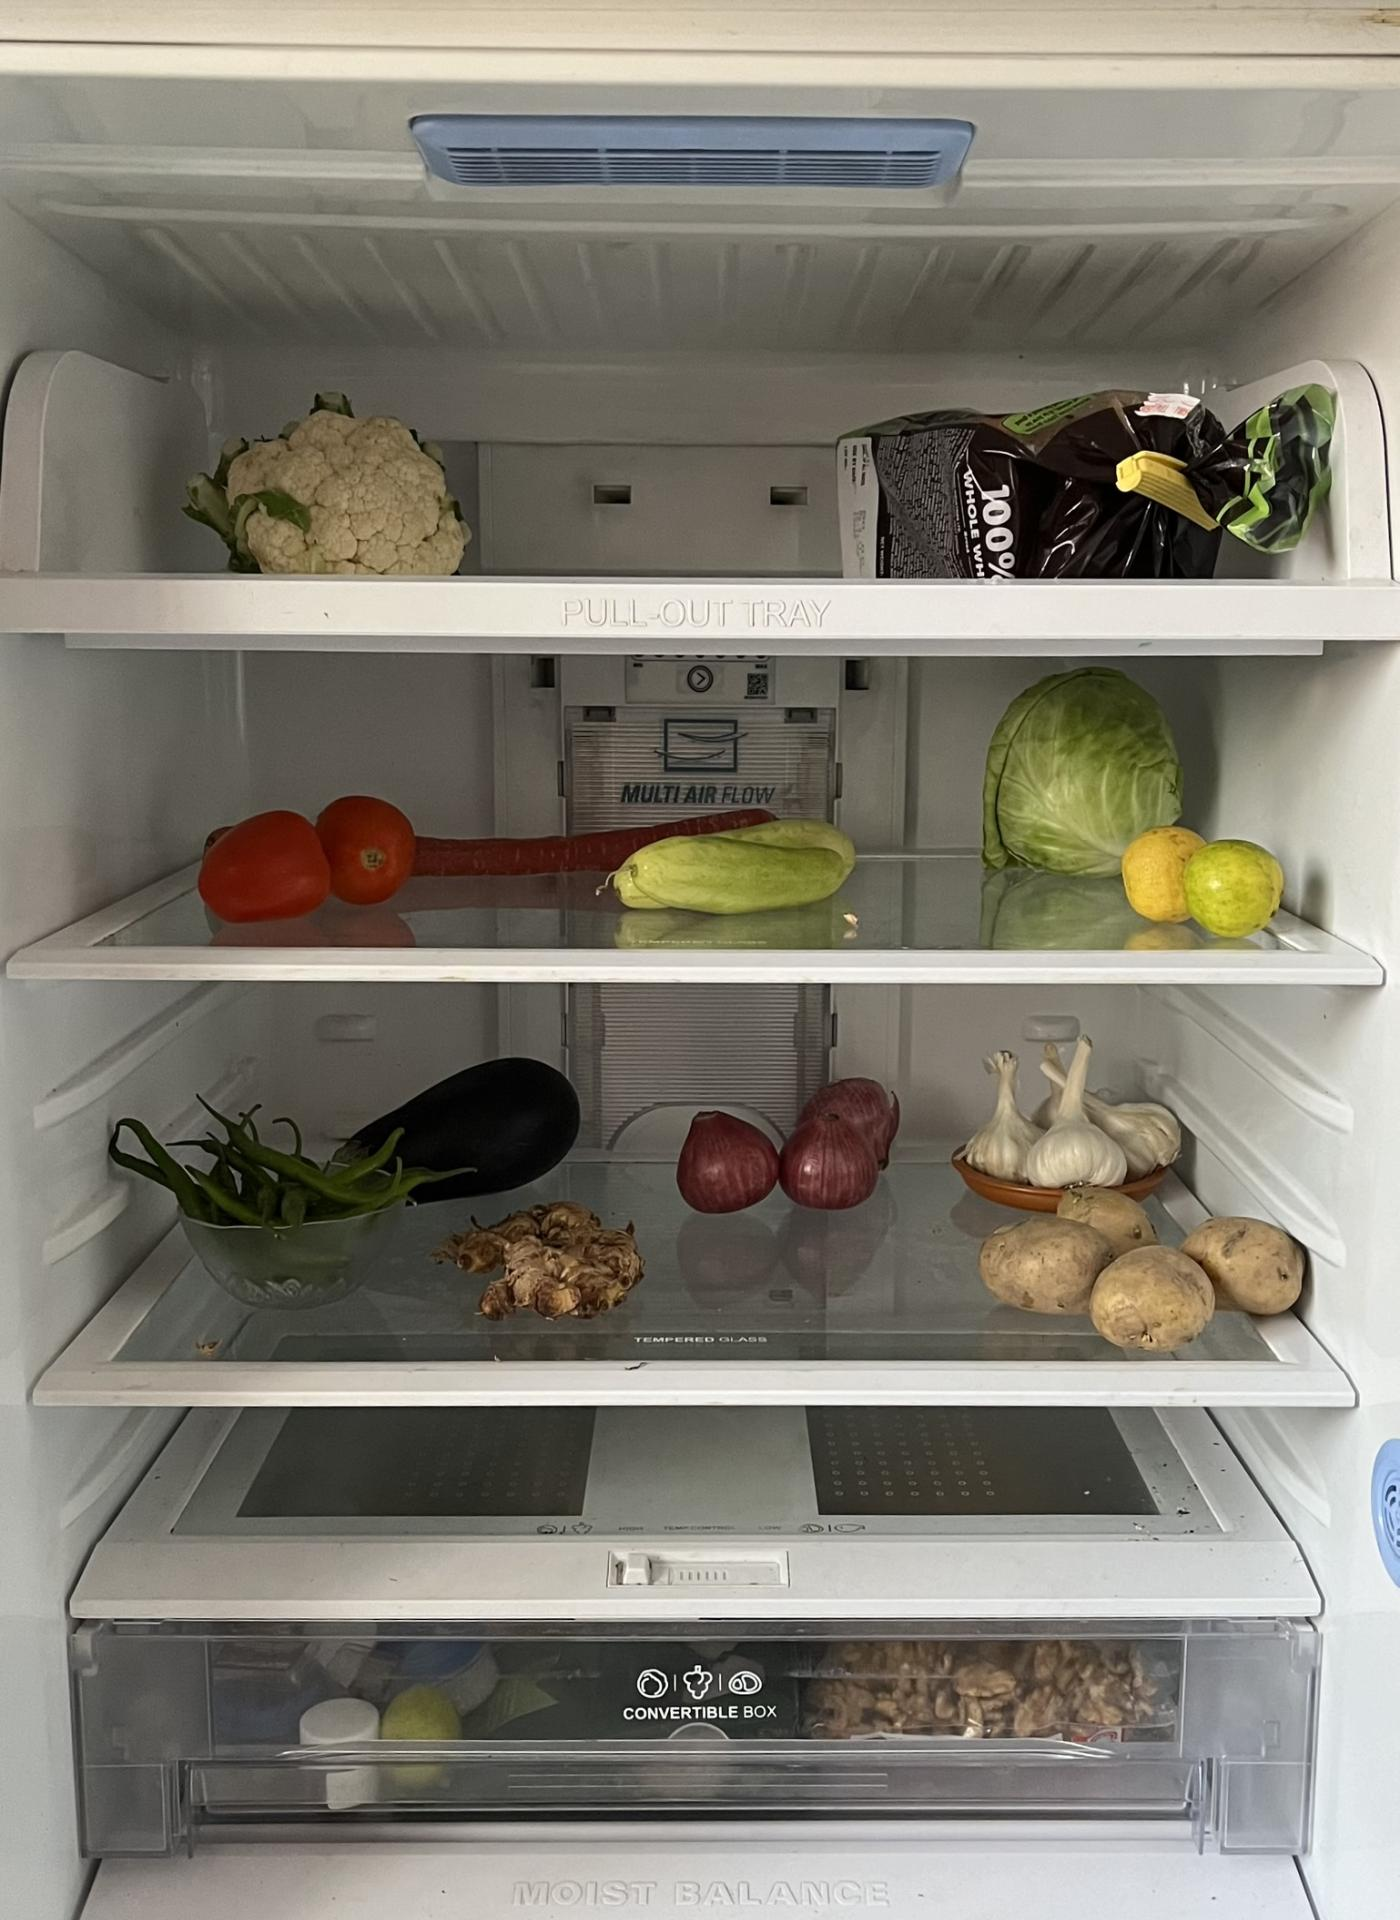bread: (845, 373, 1322, 580)
brinjal: (321, 1048, 593, 1218)
cabbage: (978, 675, 1181, 885)
carrots: (417, 802, 783, 877)
cauliflower: (201, 398, 461, 569)
chillies: (113, 1108, 397, 1321)
cucumber: (617, 826, 857, 914)
garlic: (969, 1045, 1185, 1193)
ginger: (449, 1204, 637, 1328)
lemon: (1130, 832, 1282, 927)
onion: (680, 1076, 898, 1196)
potato: (980, 1191, 1300, 1346)
tomato: (204, 798, 416, 918)
